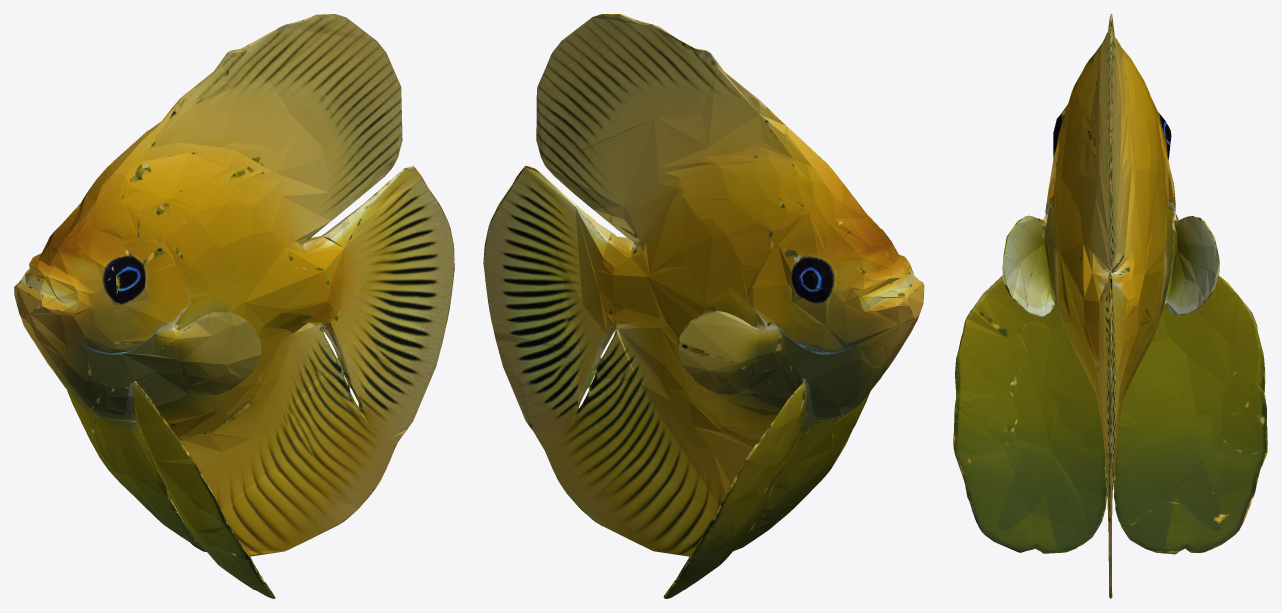
The model's file is fish_0118_smpl23_resized.glb.
The picture shows the model from 3 angles, left to right: view 1: azimuth 30°, elevation 25°; view 2: azimuth 150°, elevation 25°; view 3: azimuth 270°, elevation 25°; orthographic projection. The views are drawn at different scales.
Visible parts, largest first — view 1: world; view 2: world; view 3: world.
Boxes of the visible parts, bbox=[...] form: world: bbox=[14, 14, 454, 598]; world: bbox=[483, 14, 924, 598]; world: bbox=[953, 14, 1267, 598].
Bounding box in the file's own units: 1.7 × 1.99 × 1.01.
Materials: 1 (1 with a texture image).
